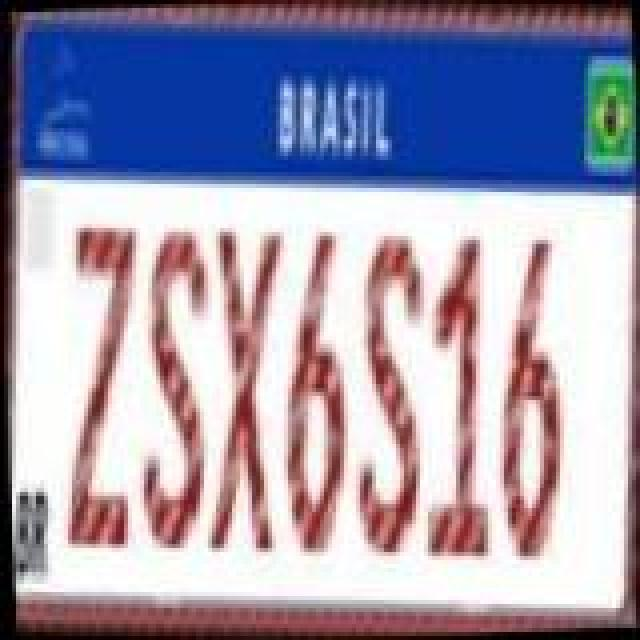1: (410, 224, 510, 564)
6: (266, 220, 366, 560), (480, 226, 576, 566)
S: (336, 222, 440, 562), (122, 216, 222, 556)
X: (192, 218, 296, 558)
Z: (52, 220, 148, 556)
